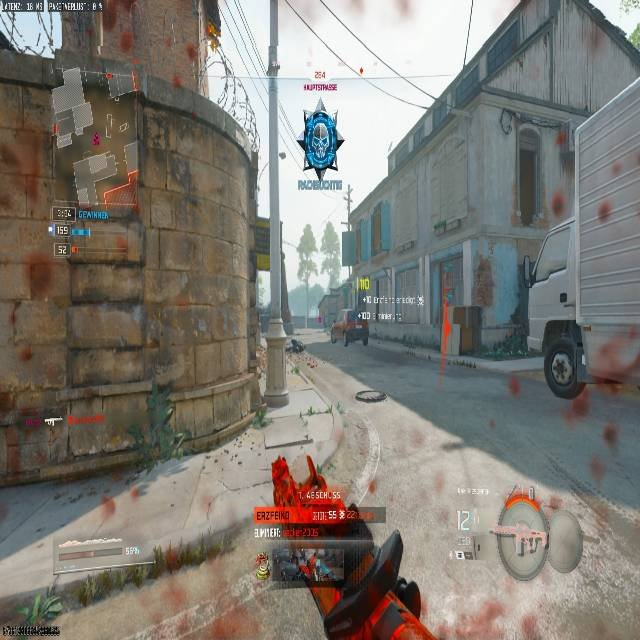player: (266, 453, 441, 640), (299, 110, 343, 172), (335, 304, 372, 350)
